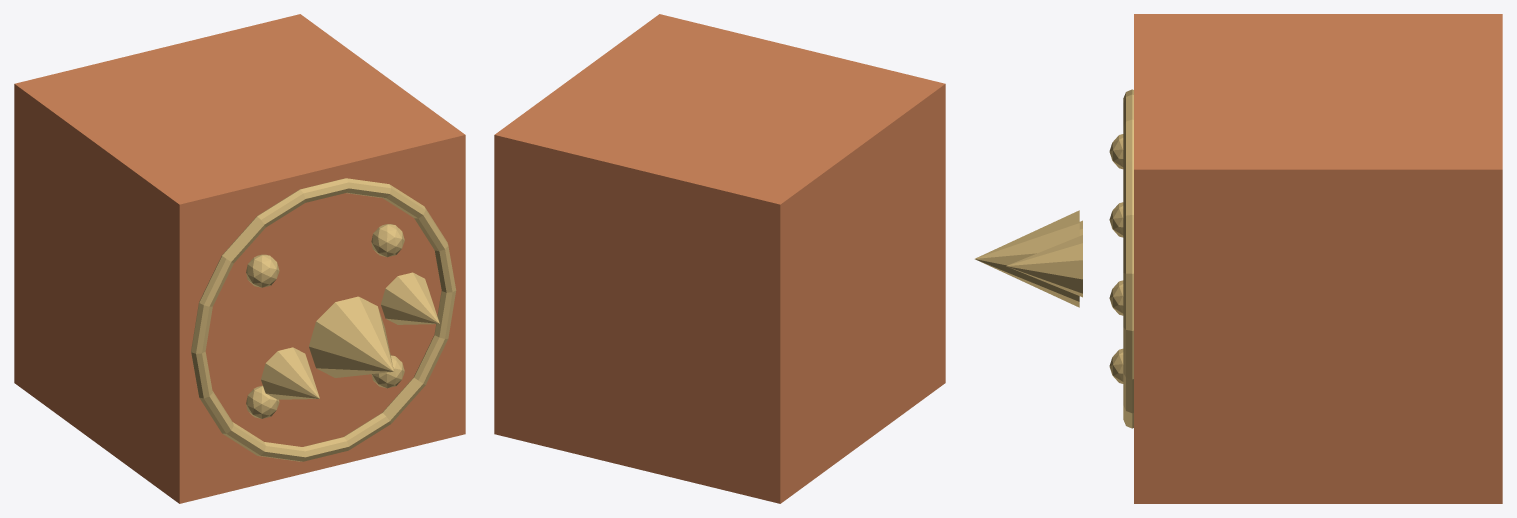
The model's file is explosion.glb.
3 views of the same model, side by side, from view 1: azimuth 30°, elevation 25°; view 2: azimuth 150°, elevation 25°; view 3: azimuth 270°, elevation 25° (orthographic). The views are drawn at different scales.
Parts seen in each view (by area): view 1: world; view 2: world; view 3: world.
Boxes of the visible parts, x1=… form: world: x1=14, y1=14, x2=465, y2=503; world: x1=494, y1=14, x2=945, y2=503; world: x1=975, y1=14, x2=1502, y2=503.
Size of the model in its own units: 1.05 by 1.05 by 1.5.
